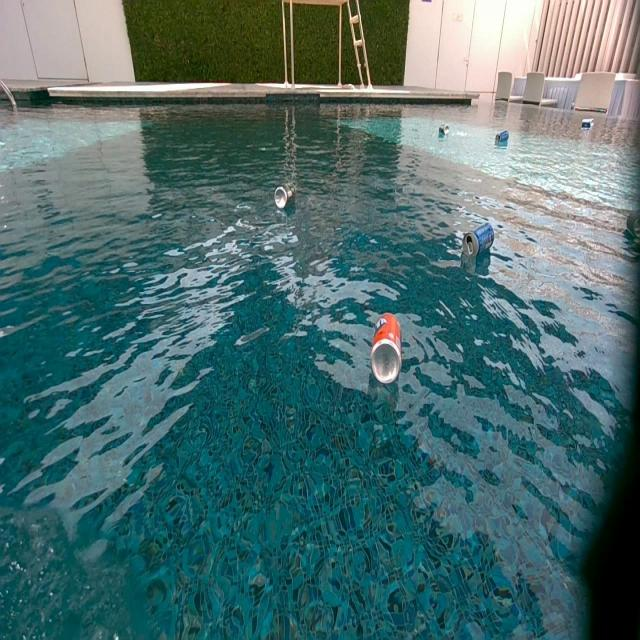Cans: (371, 312, 401, 386), (463, 221, 497, 259), (275, 188, 292, 210), (495, 131, 509, 145), (440, 125, 451, 138), (583, 118, 594, 129)
